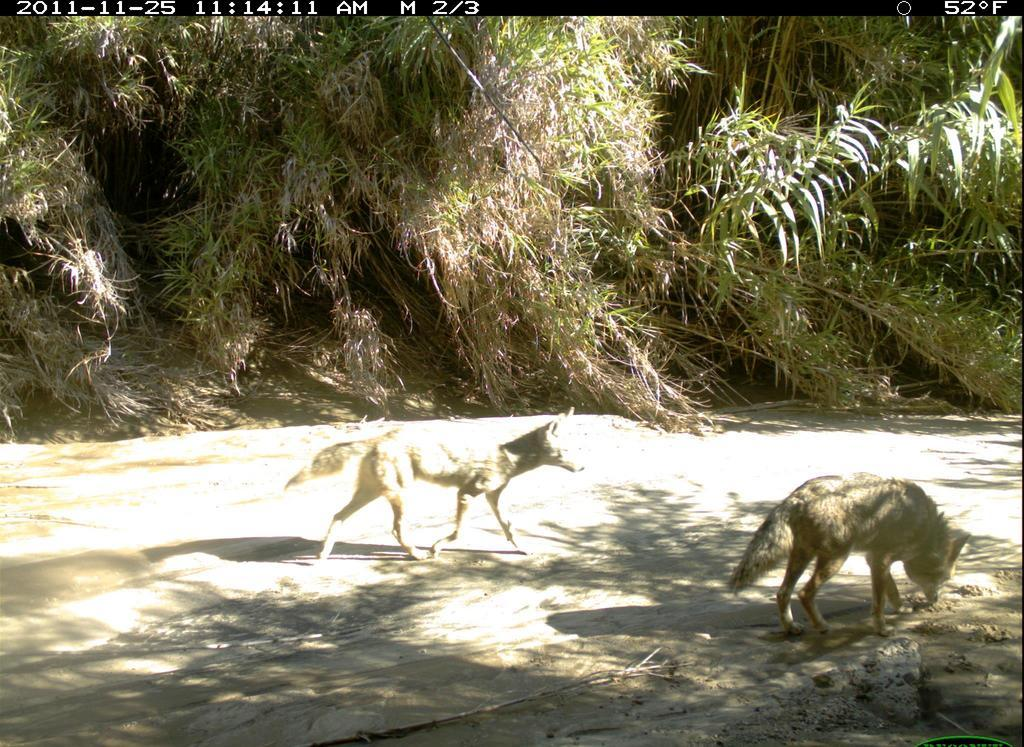coyote: (282, 399, 596, 565), (725, 461, 980, 652)
